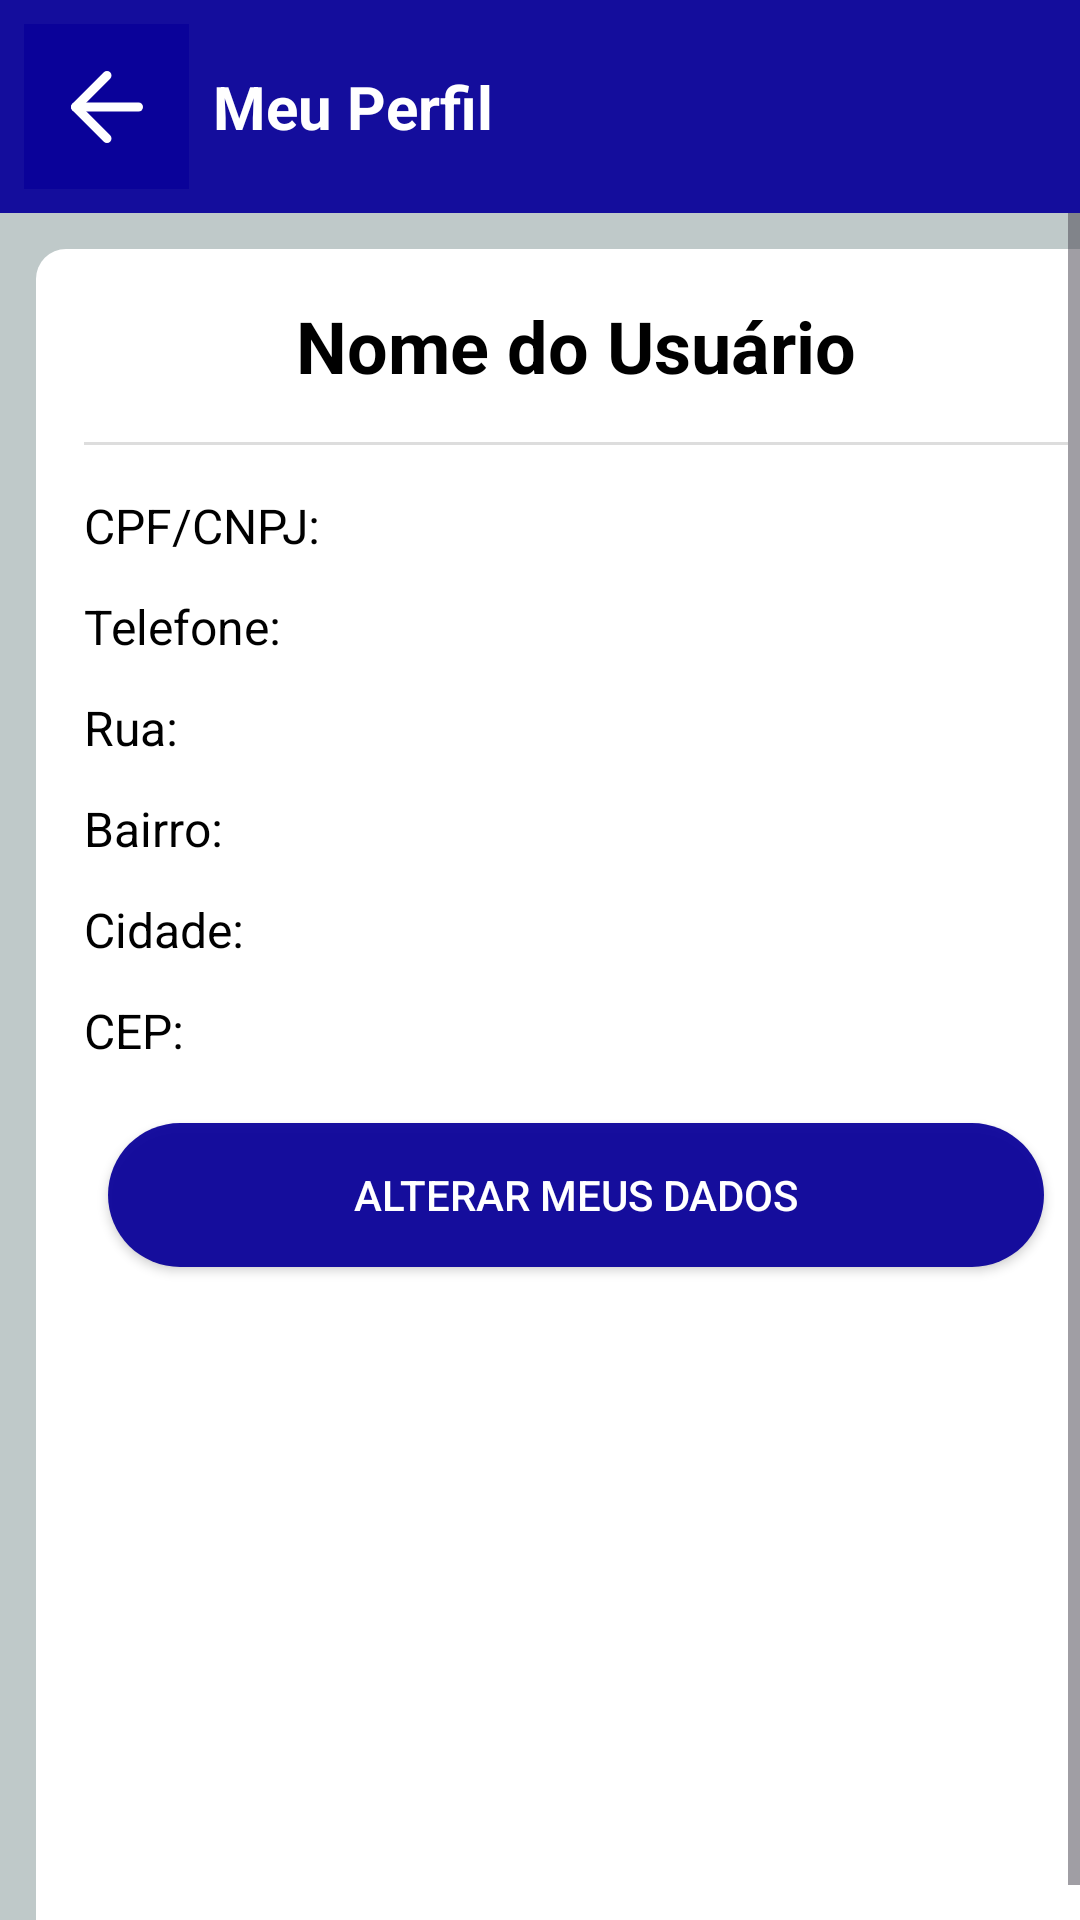

Screen size 1080x1920. Icon name, then its box in pixels as (left=x1, top=y1, right=x2, bottom=y2):
arrow left: (left=24, top=24, right=189, bottom=189)
